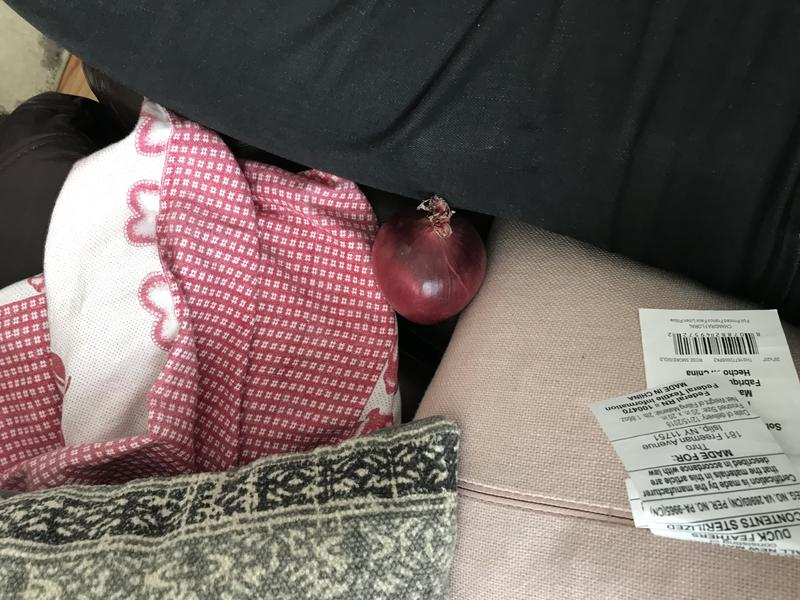purple_onion: (362, 186, 496, 331)
